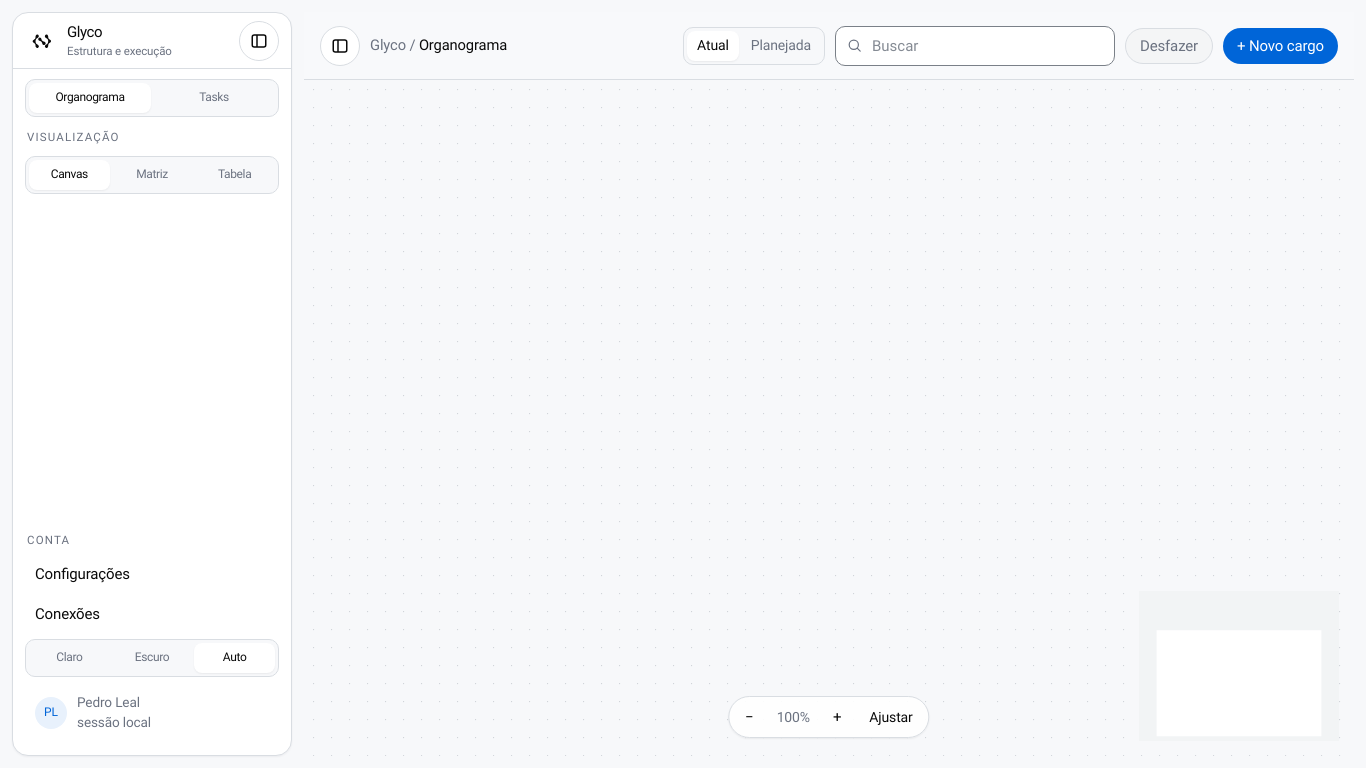
ambientes › esconde e reabre a sidebar pelo botão do topbar
Click the button with class "sidebar-toggle" at (340, 46), box [320,26,360,66]
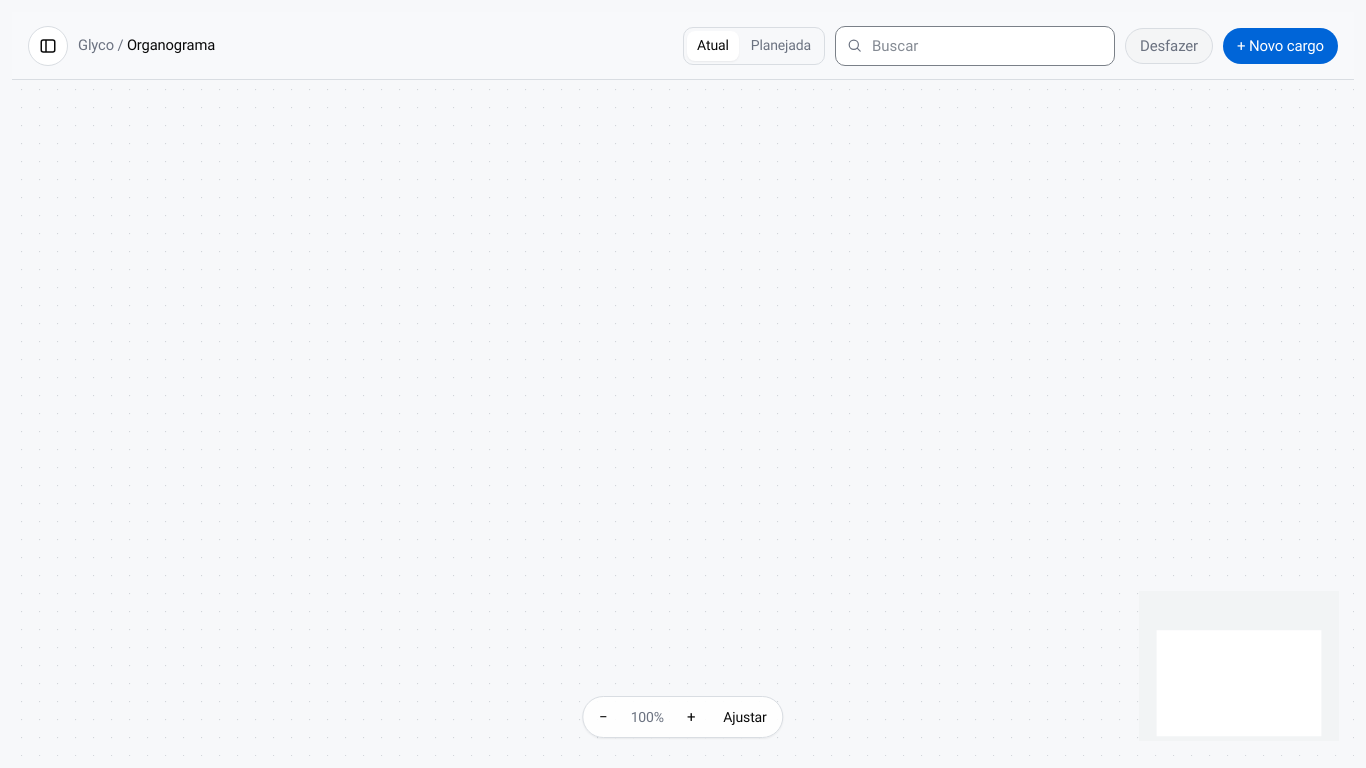
Check: the button named "Abrir menu" is shown
Click the button named "Abrir menu" at (48, 46), box [28,26,68,66]
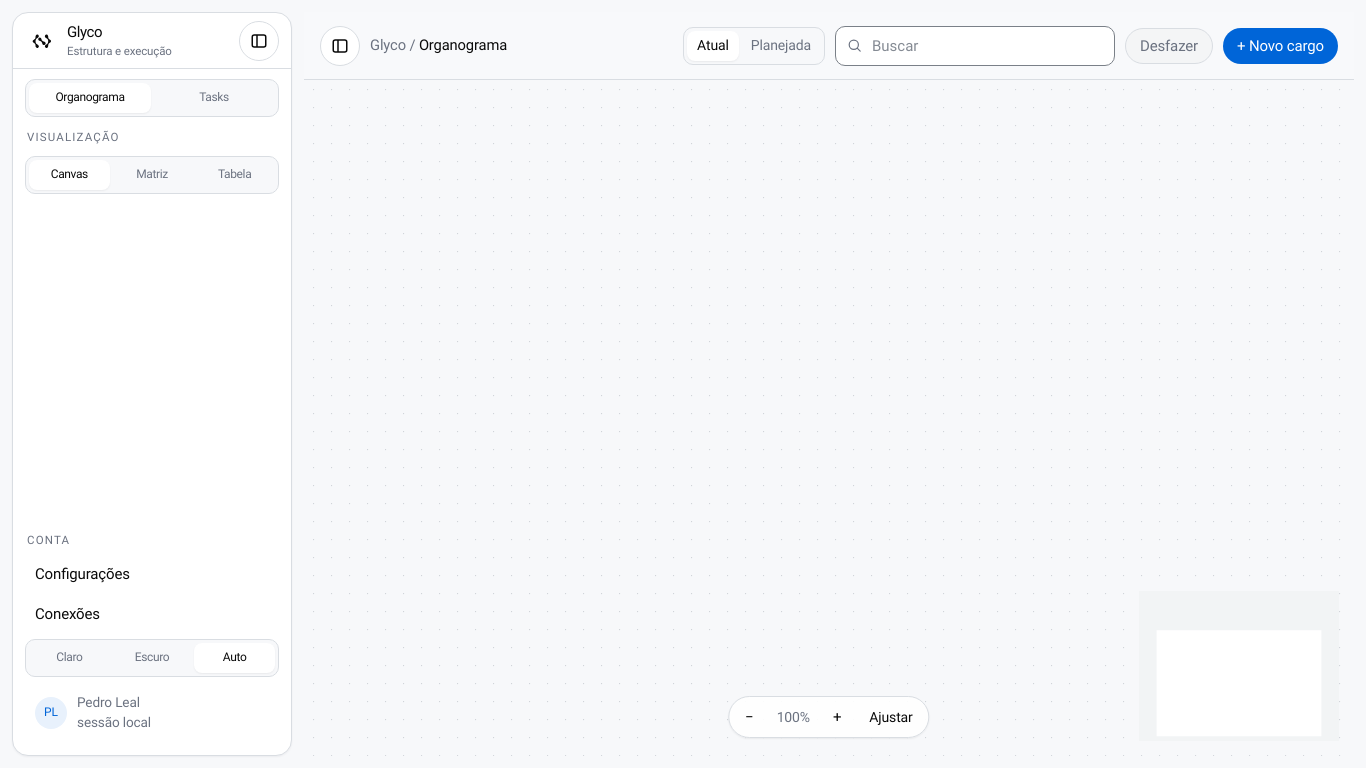
Check: the element with class "sidebar-open" is shown
